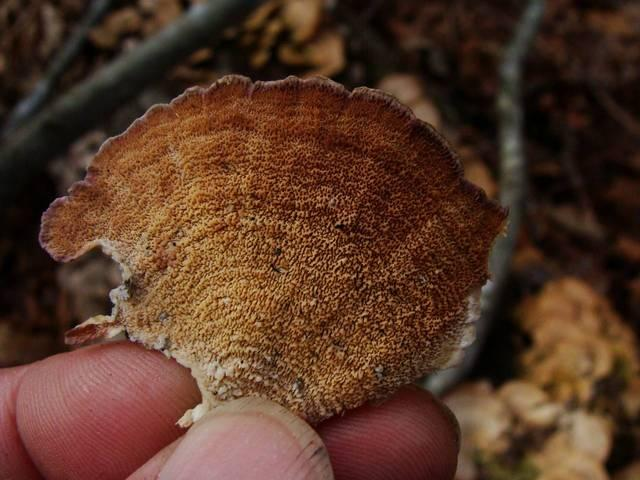poisonous_mushroom: (37, 71, 510, 436)
